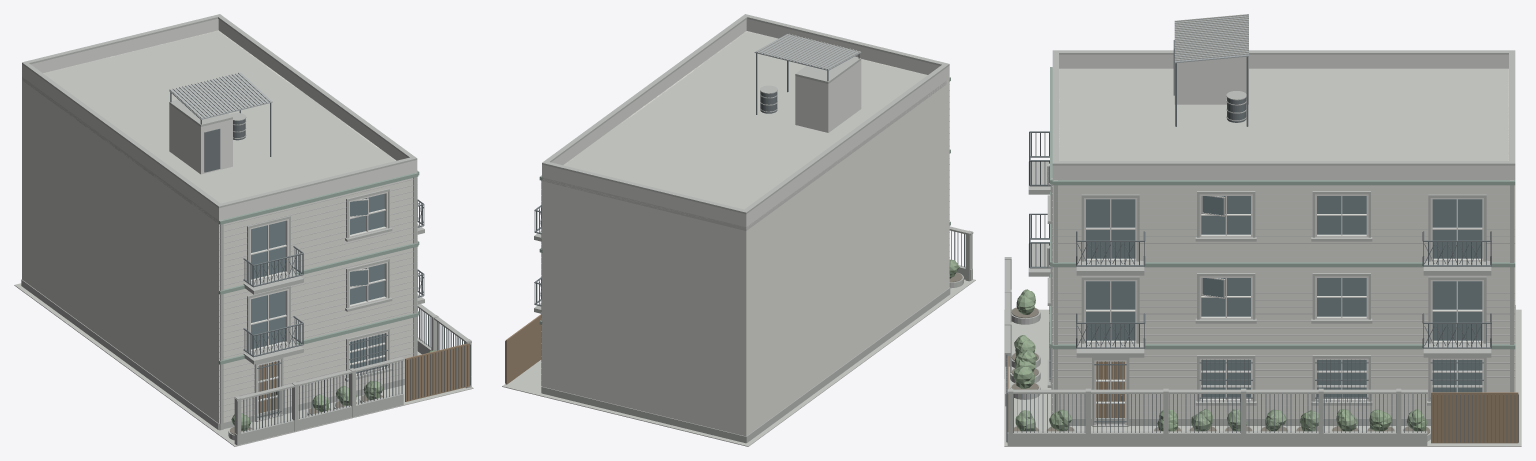
The model's file is 03_corner.glb.
The picture shows the model from 3 angles, left to right: view 1: azimuth 30°, elevation 25°; view 2: azimuth 150°, elevation 25°; view 3: azimuth 270°, elevation 25°; orthographic projection. The views are drawn at different scales.
Parts seen in each view (by area): view 1: wall_13, roof_slab_11, wall_14, parapet_0, cladding_joint_2, parapet_cap_2, fence_bar_5, balcony_window_panel_4, gate_6, floor_band_1, rooftop_room_0, window_panel_4 (+27 smaller); view 2: wall_12, wall_13, roof_slab_11, parapet_0, parapet_cap_2, rooftop_room_0, plinth_2, lot_paving_11, gate_6, corrugation_2, canopy_sheet_8, wall_15 (+2 smaller); view 3: wall_15, roof_slab_11, parapet_0, balcony_window_panel_4, cladding_joint_2, window_panel_4, floor_band_1, boundary_base_2, parapet_cap_2, shrub_9, lot_paving_11, gate_6 (+29 smaller).
Boxes of the visible parts, x1,y1,x2,y2 form: wall_13: [22, 79, 219, 423]; roof_slab_11: [22, 30, 395, 223]; wall_14: [216, 177, 417, 423]; parapet_0: [22, 18, 417, 220]; cladding_joint_2: [219, 178, 417, 418]; parapet_cap_2: [22, 14, 417, 208]; fence_bar_5: [243, 308, 464, 432]; balcony_window_panel_4: [251, 221, 285, 349]; gate_6: [405, 343, 469, 401]; floor_band_1: [218, 170, 419, 364]; rooftop_room_0: [169, 104, 232, 174]; window_panel_4: [350, 194, 384, 372]; wall_12: [542, 178, 748, 436]; wall_13: [741, 79, 949, 435]; roof_slab_11: [542, 31, 949, 230]; parapet_0: [542, 19, 949, 226]; parapet_cap_2: [542, 14, 949, 214]; rooftop_room_0: [795, 60, 861, 132]; plinth_2: [541, 287, 950, 443]; lot_paving_11: [502, 279, 975, 446]; gate_6: [505, 314, 541, 384]; corrugation_2: [756, 33, 860, 69]; canopy_sheet_8: [754, 34, 861, 70]; wall_15: [542, 31, 746, 387]; wall_15: [1052, 185, 1515, 418]; roof_slab_11: [1059, 68, 1508, 160]; parapet_0: [1052, 54, 1515, 180]; balcony_window_panel_4: [1086, 199, 1482, 340]; cladding_joint_2: [1052, 186, 1515, 412]; window_panel_4: [1201, 196, 1482, 397]; floor_band_1: [1050, 67, 1515, 349]; boundary_base_2: [1005, 366, 1427, 445]; parapet_cap_2: [1052, 50, 1515, 165]; shrub_9: [1013, 289, 1427, 431]; lot_paving_11: [1004, 309, 1521, 446]; gate_6: [1007, 356, 1518, 443].
Bounding box in the file's own units: 10 × 10.88 × 16.
